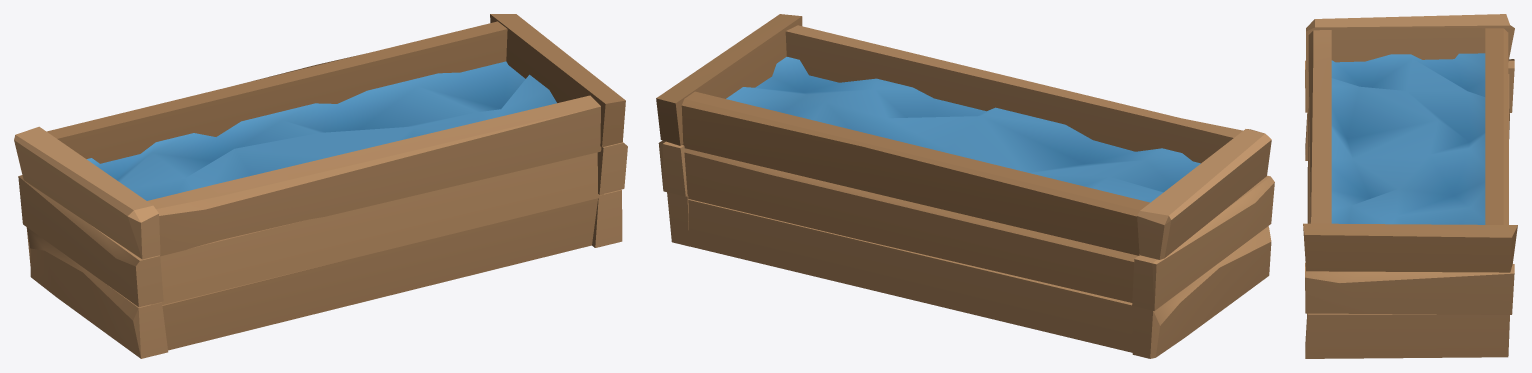
Rendered from Manger_B.fbx.
3 renders of one model, left to right at view 1: azimuth 30°, elevation 25°; view 2: azimuth 150°, elevation 25°; view 3: azimuth 270°, elevation 25°, orthographic. The views are drawn at different scales.
Visible parts, largest first — view 1: Manger_B; view 2: Manger_B; view 3: Manger_B.
Part boxes in pixels (box(x1,y1,x2,y2)): Manger_B: box(14, 14, 627, 358); Manger_B: box(656, 14, 1274, 358); Manger_B: box(1303, 14, 1517, 358).
Bounding box in the file's own units: 163 × 44.66 × 67.17.
